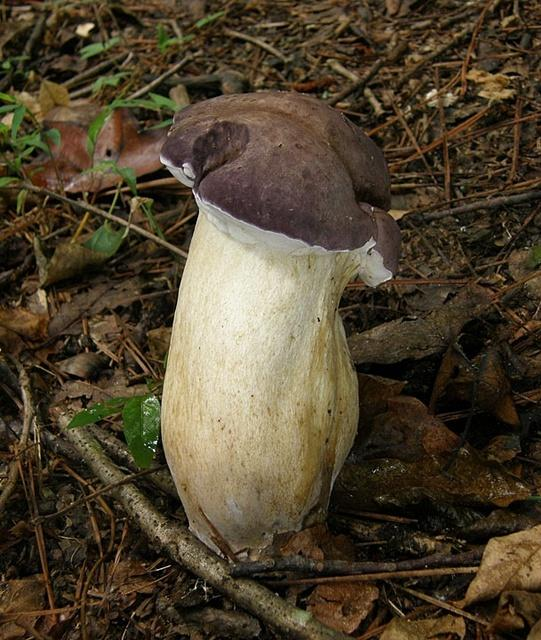Non-edible Mushroom: (155, 87, 402, 566)
